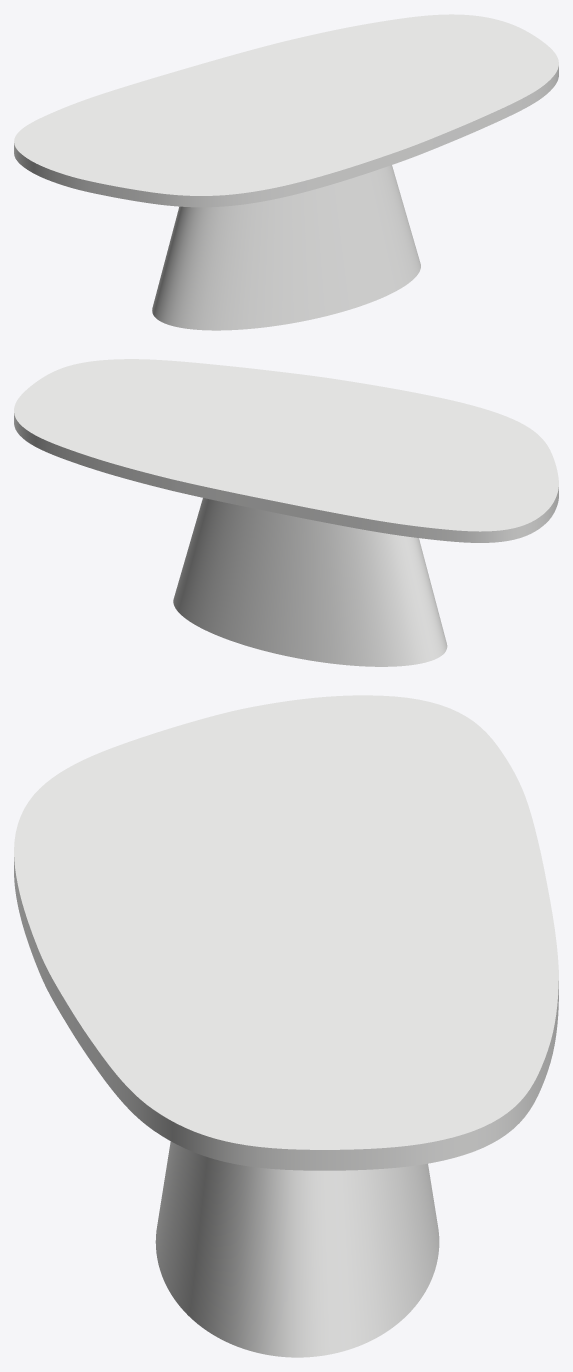
The model's file is purewhite_leaf2_standard_eqone.glb.
The picture shows the model from 3 angles, top to bottom: view 1: azimuth 30°, elevation 25°; view 2: azimuth 150°, elevation 25°; view 3: azimuth 270°, elevation 25°; orthographic projection. The views are drawn at different scales.
Parts seen in each view (by area): view 1: standard_leaf2, eqone; view 2: standard_leaf2, eqone; view 3: standard_leaf2, eqone.
Part boxes in pixels (x1,y1,x2,y2): standard_leaf2: [14, 14, 558, 207]; eqone: [152, 165, 420, 330]; standard_leaf2: [14, 359, 558, 542]; eqone: [173, 498, 447, 666]; standard_leaf2: [14, 695, 558, 1170]; eqone: [155, 1141, 439, 1357].
Bounding box in the file's own units: 7.5 × 2.52 × 3.8.
Materials: 1 (1 with a texture image).
